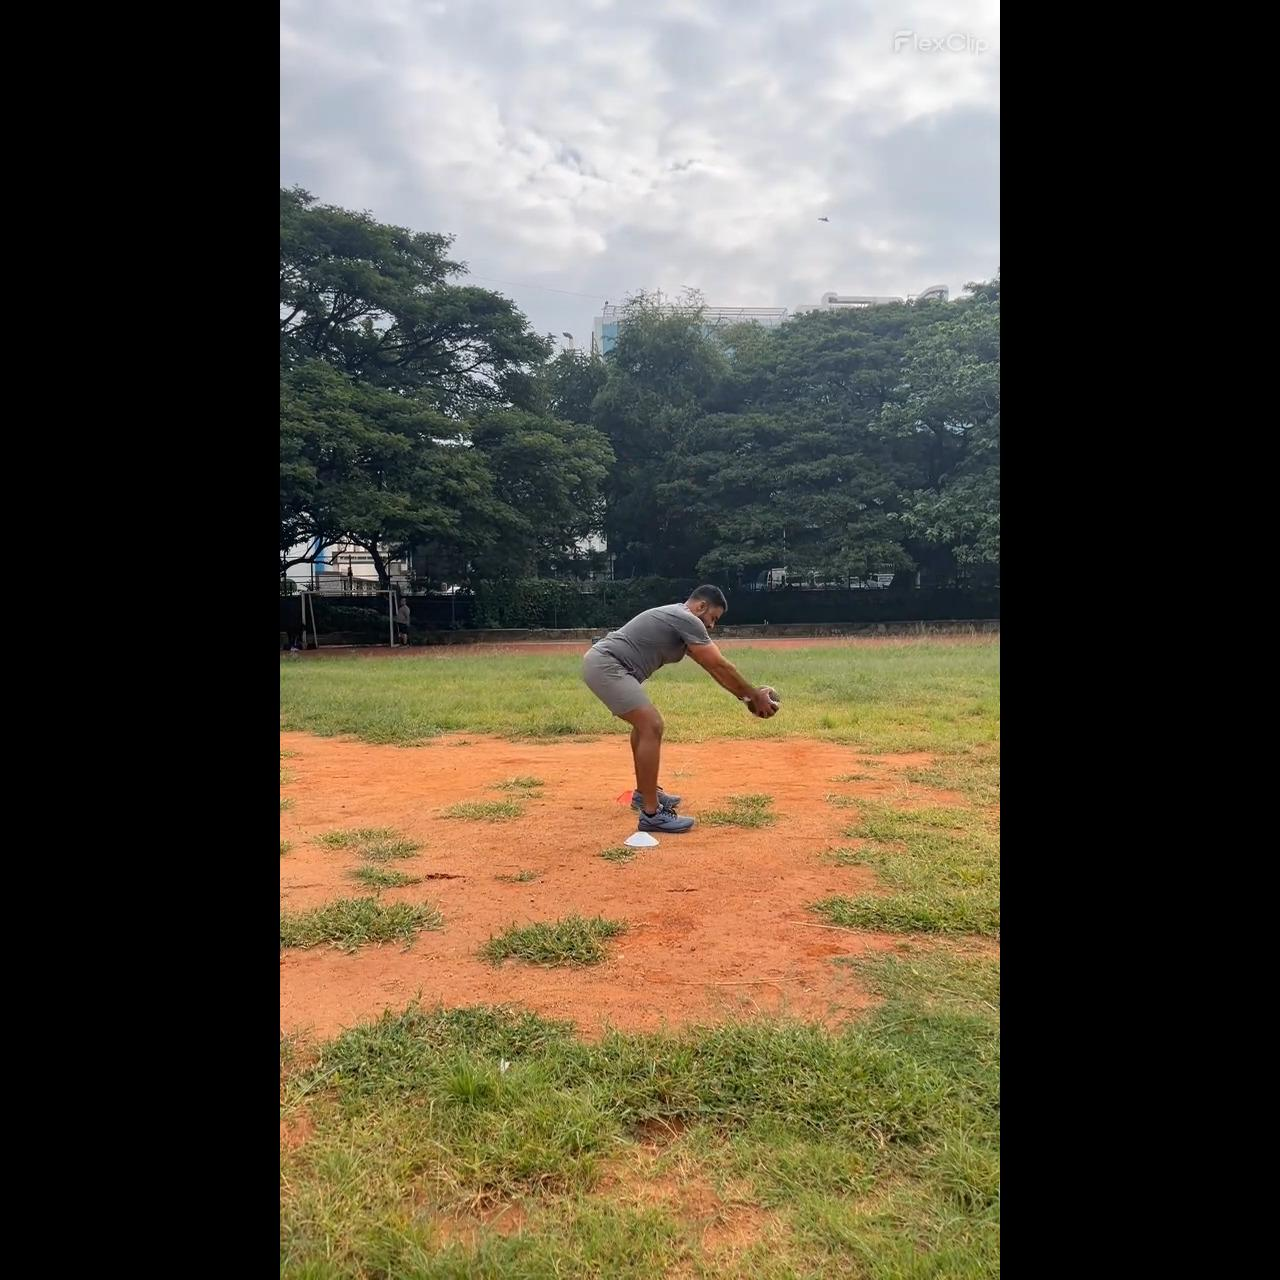Athelete: (580, 584, 779, 835)
